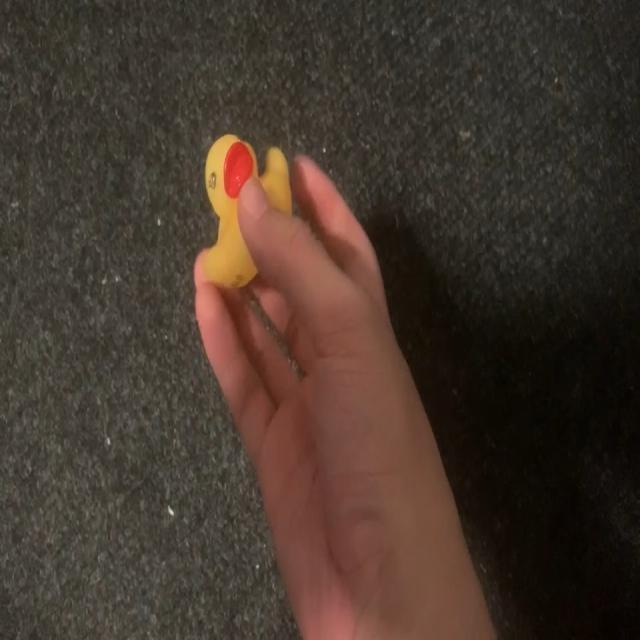rubber-duck: (202, 133, 255, 286), (259, 146, 290, 212)
